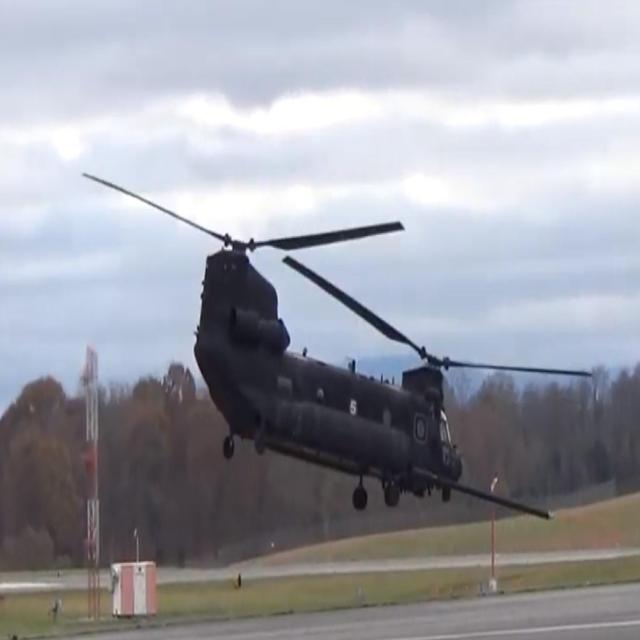Helicopter: (165, 188, 479, 527)
